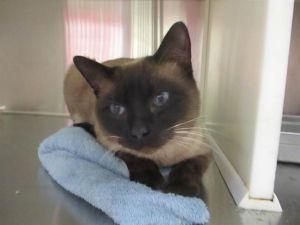siamese: (69, 18, 205, 172)
